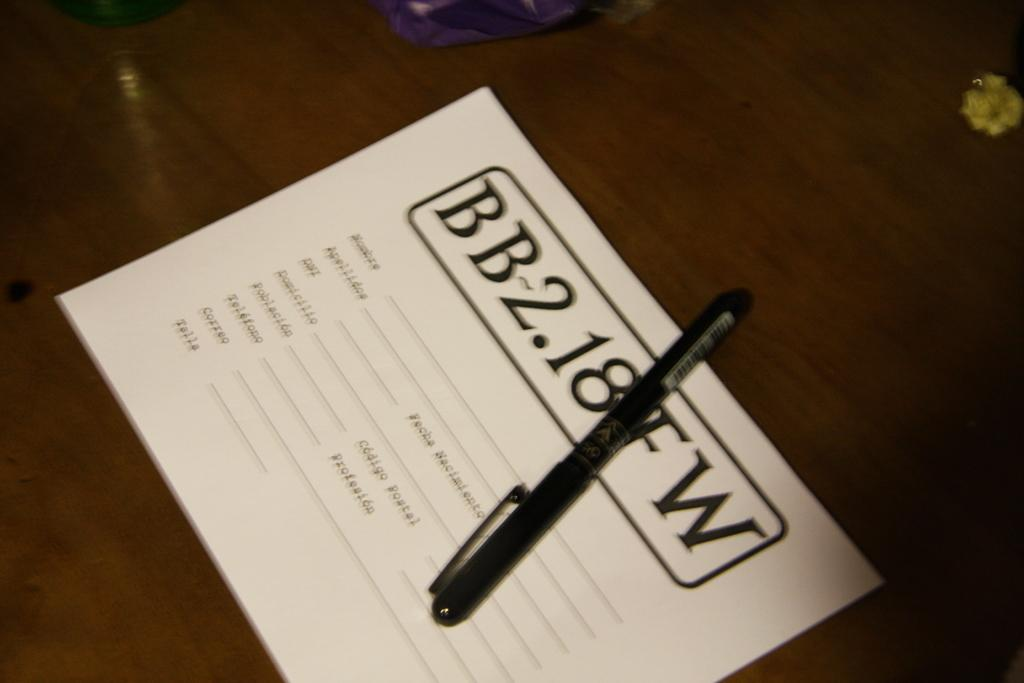pen: (426, 290, 755, 629)
